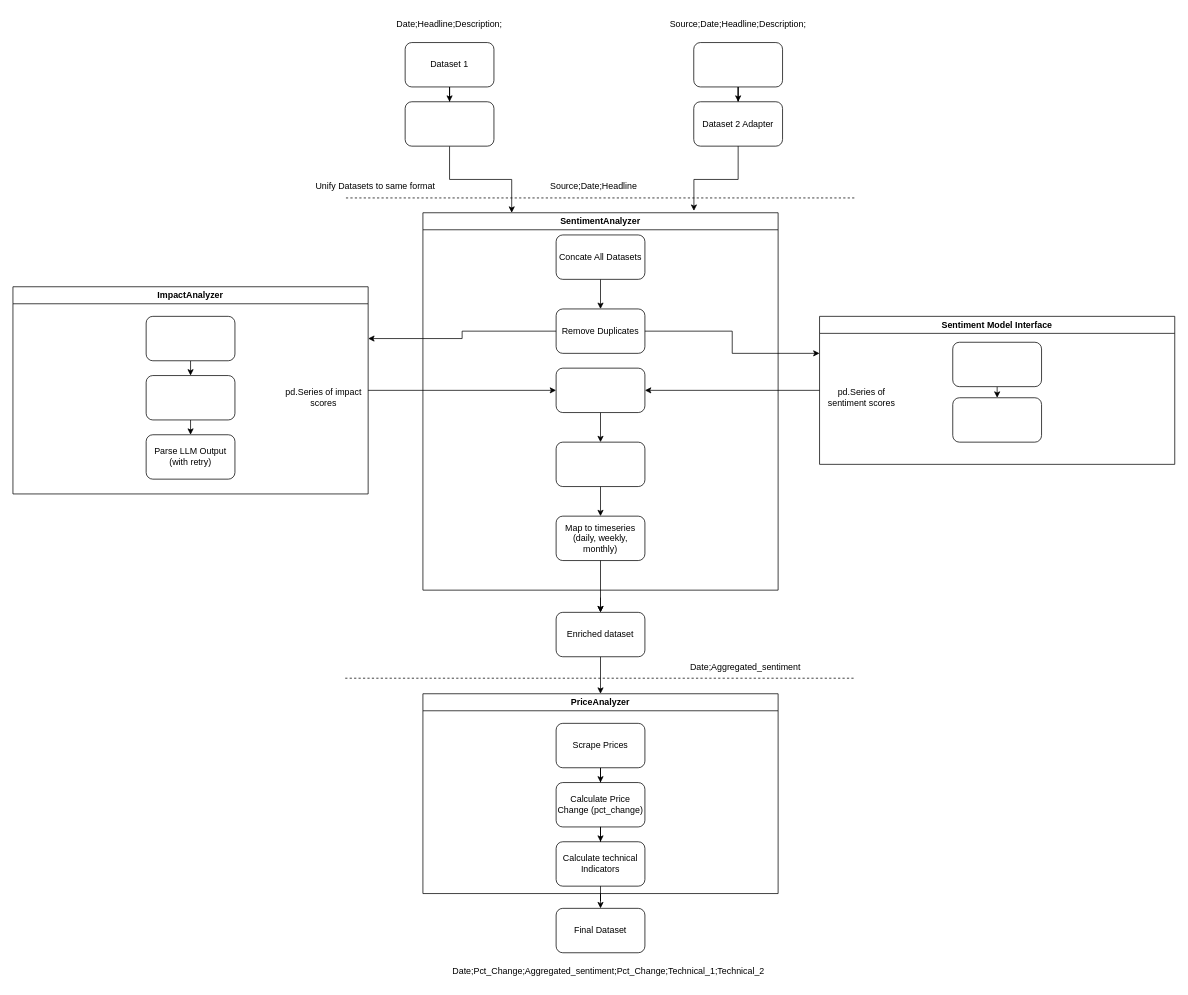
The diagram is 1188 pixels wide and 995 high, and some of its shapes have lost their labels. Here are the shapes that lost their labels. From the top down, the centre of each, then its label:
At pixel 738 64: "Dataset 2".
At pixel 449 123: "Dataset 1 Adapter".
At pixel 190 338: "Load LLM".
At pixel 997 364: "Preprocess Headlines".
At pixel 190 397: "Tokenize Headlines".
At pixel 600 390: "Mulitply Sentiment with Impact Score".
At pixel 997 419: "Model".
At pixel 600 464: "Group by (daily, weekly, monthly)".
